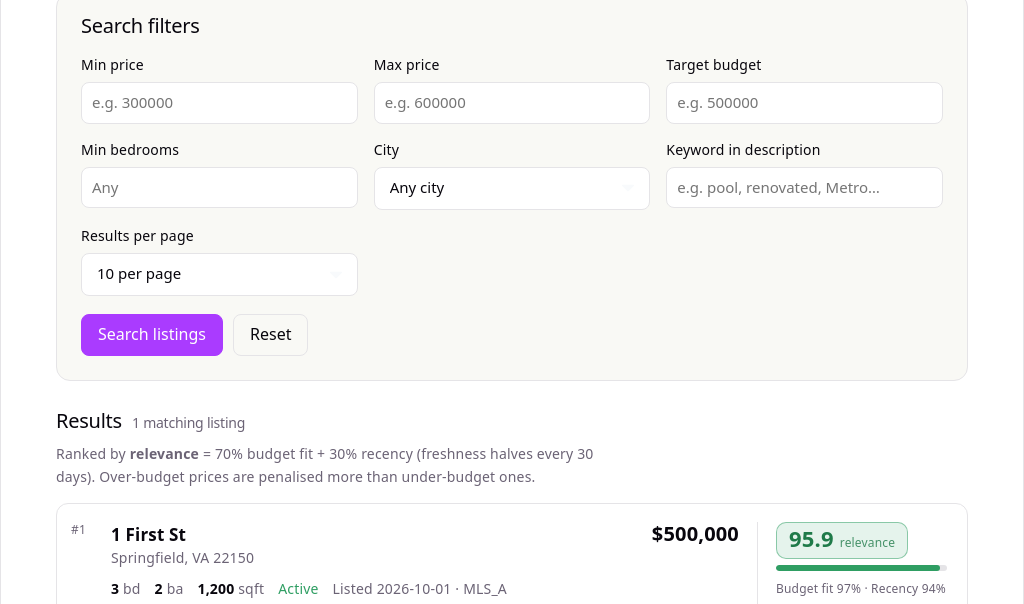
App — empty, out-of-range, and error states › shows the empty state with a clear-filters escape hatch
Expected: the text "1 First St" is shown, [111, 523, 186, 546]
Type "1000000" into the field labelled "Min price" at x=219, y=103, box [81, 82, 358, 124]
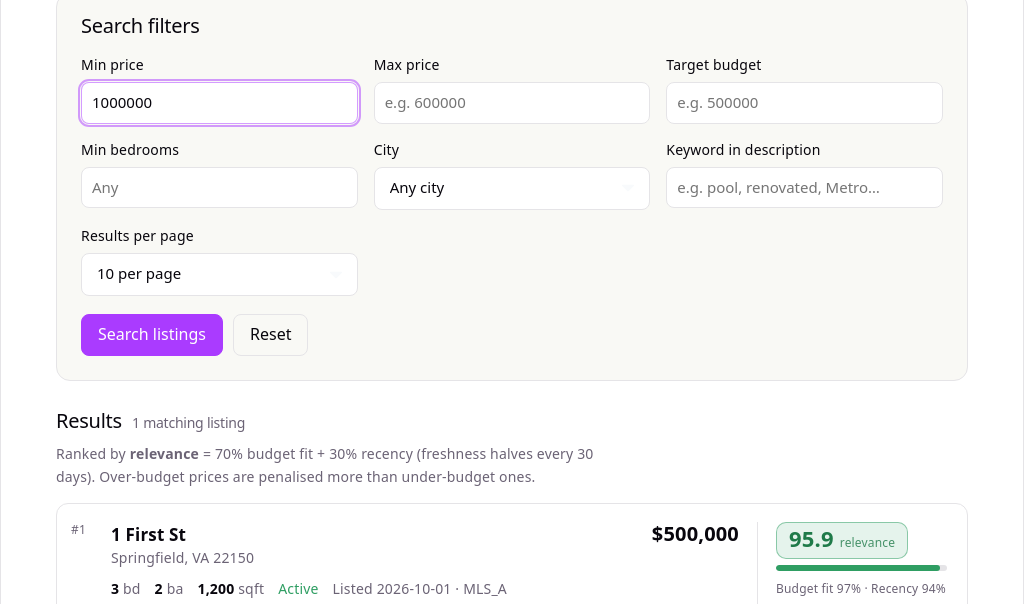
Click the button "Search listings" at x=152, y=335, box [81, 314, 223, 356]
(page scrolled)
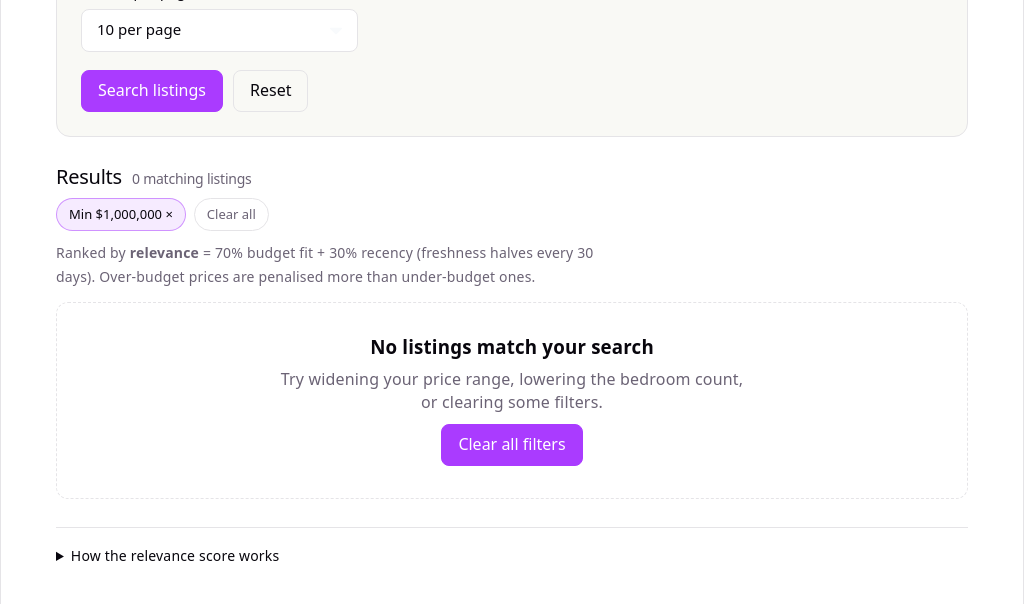
Expected: the heading "No listings match your search" is shown, [370, 335, 654, 358]
Click the button "Clear all filters" at x=512, y=445, box [441, 424, 583, 466]
(page scrolled)
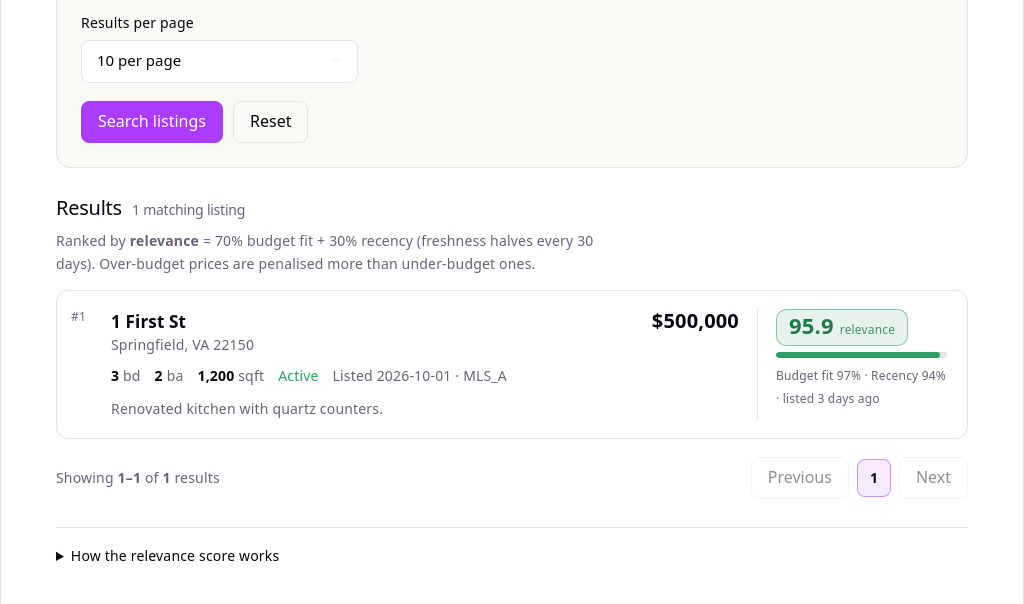
Expected: the text "1 First St" is shown, [111, 310, 186, 333]
